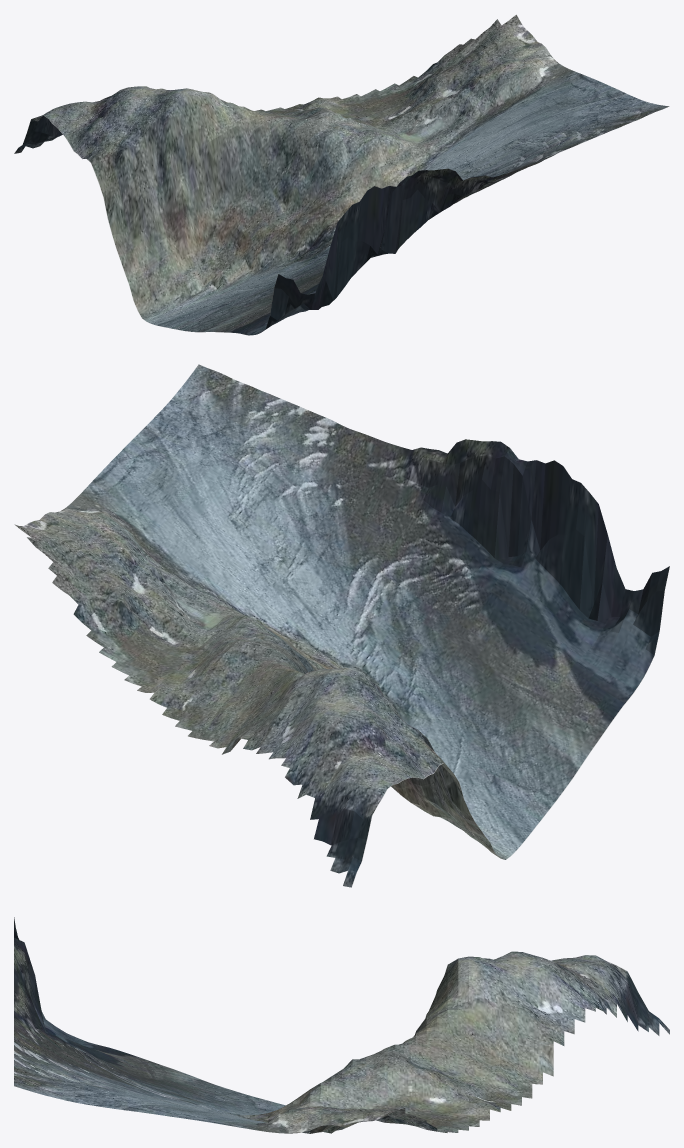
Rendered from Silv_tile_41.gltf.
3 views of the same model, one above another, from view 1: azimuth 30°, elevation 25°; view 2: azimuth 150°, elevation 25°; view 3: azimuth 270°, elevation 25° (orthographic). The views are drawn at different scales.
Visible parts, largest first — view 1: 18.014; view 2: 18.014; view 3: 18.014.
Part boxes in pixels (box(x1,y1,x2,y2)): 18.014: box(14, 14, 669, 335); 18.014: box(14, 364, 669, 887); 18.014: box(14, 917, 669, 1133).
Bounding box in the file's own units: 0.4141 × 0.2188 × 0.4844.
1 material, 1 textured.
